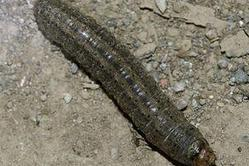caterpillars: (14, 0, 229, 166)
